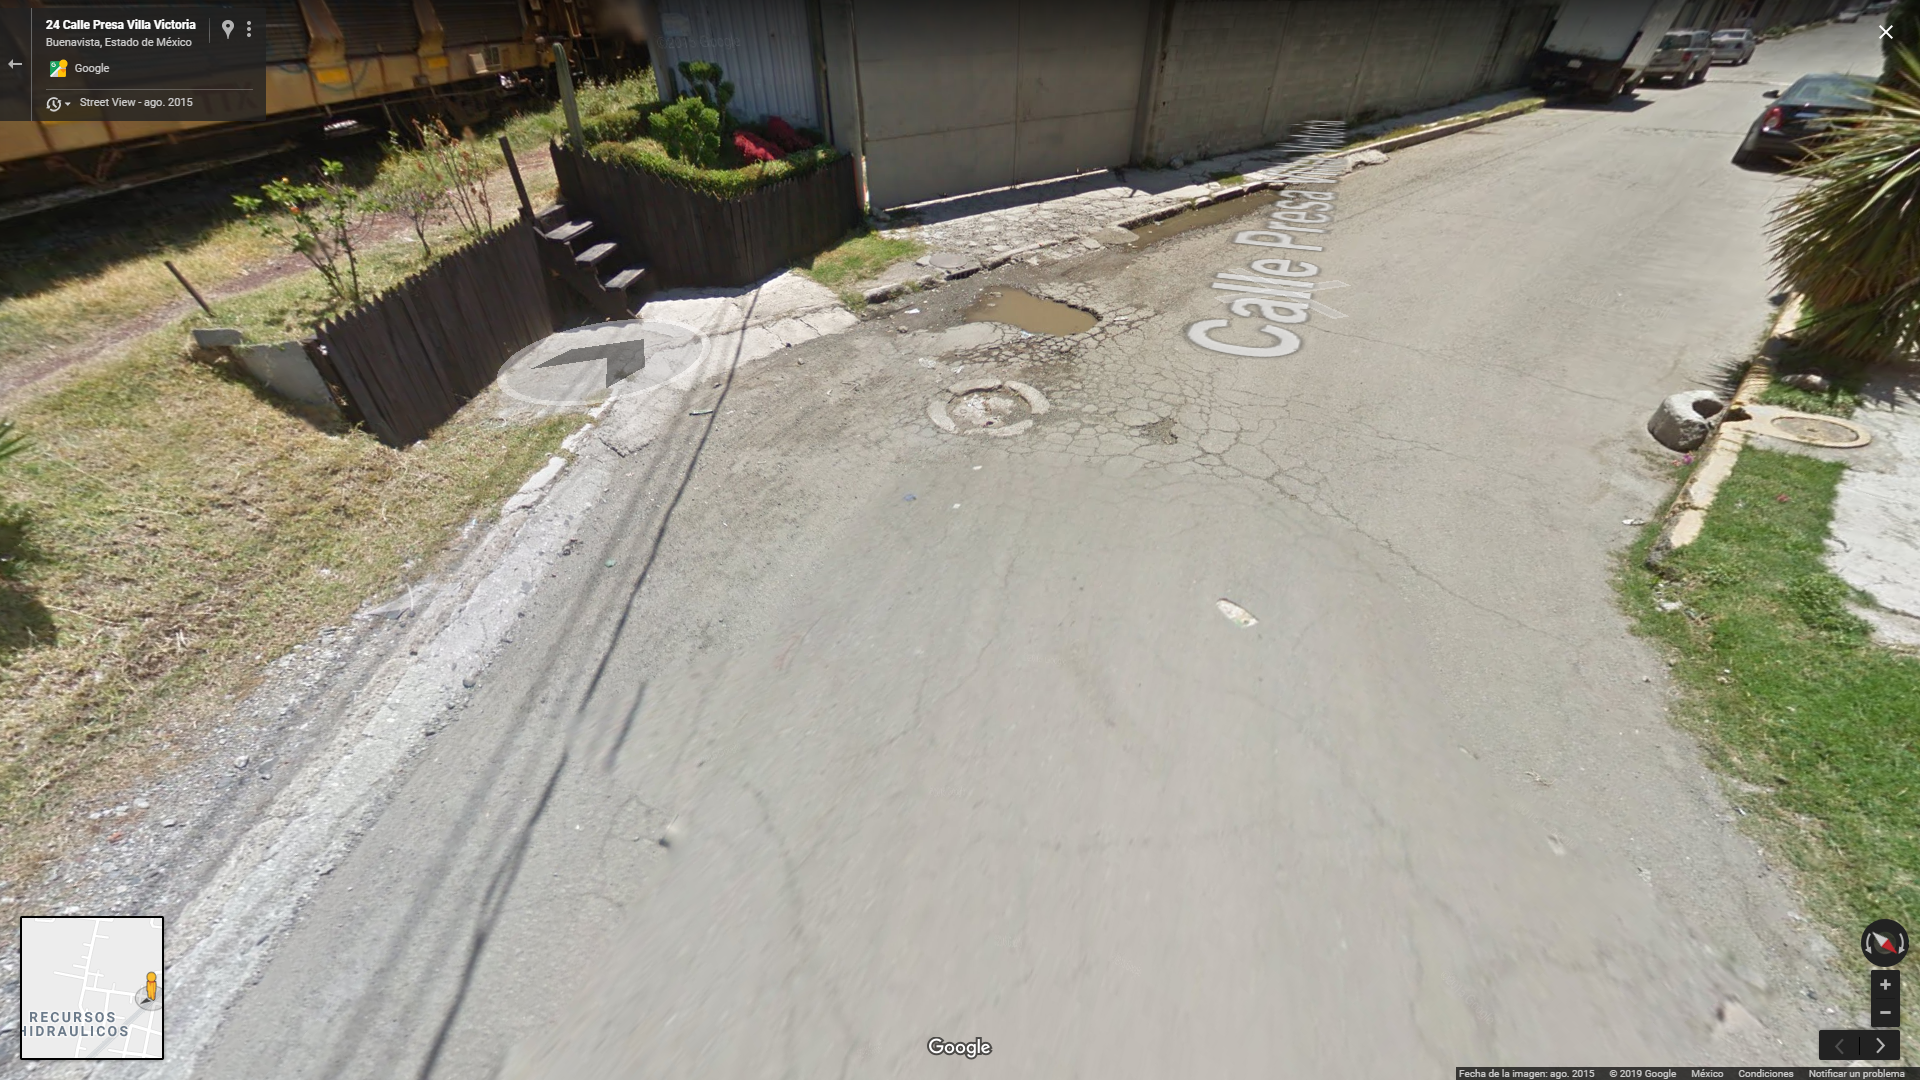pothole: (955, 277, 1101, 349), (1121, 400, 1189, 464)
